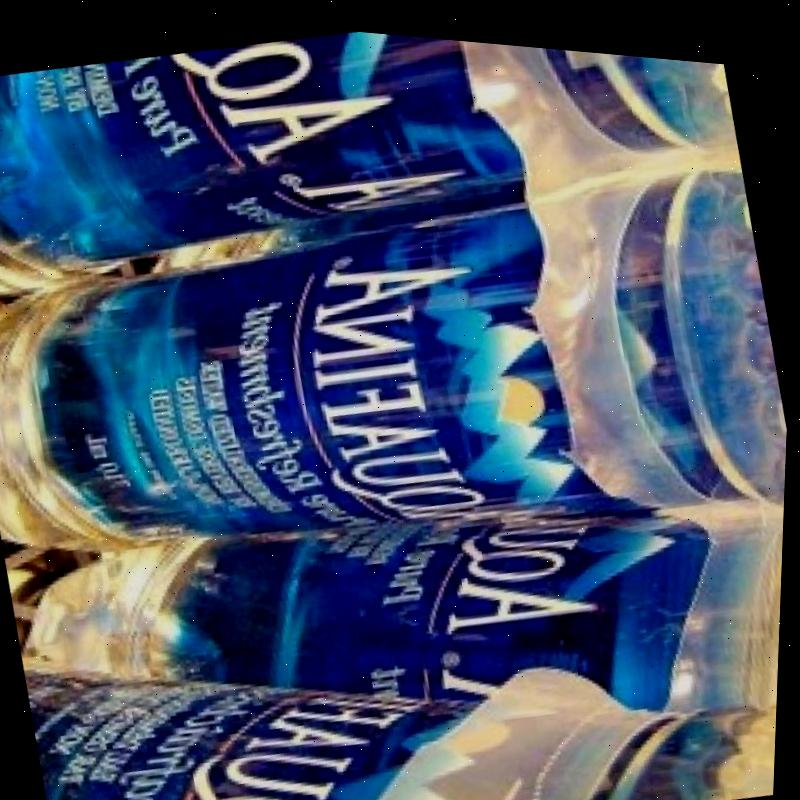botella: (0, 89, 797, 654), (3, 402, 788, 800), (0, 0, 753, 356), (23, 496, 786, 800)
